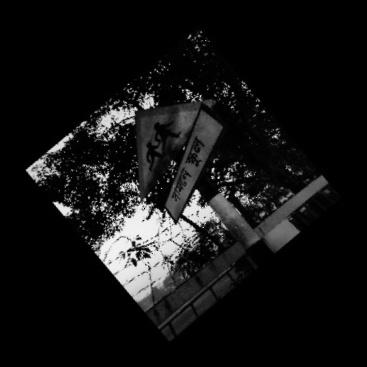School-in-front: (129, 101, 225, 225)
